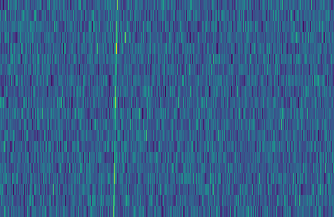signal: (108, 0, 120, 217)
